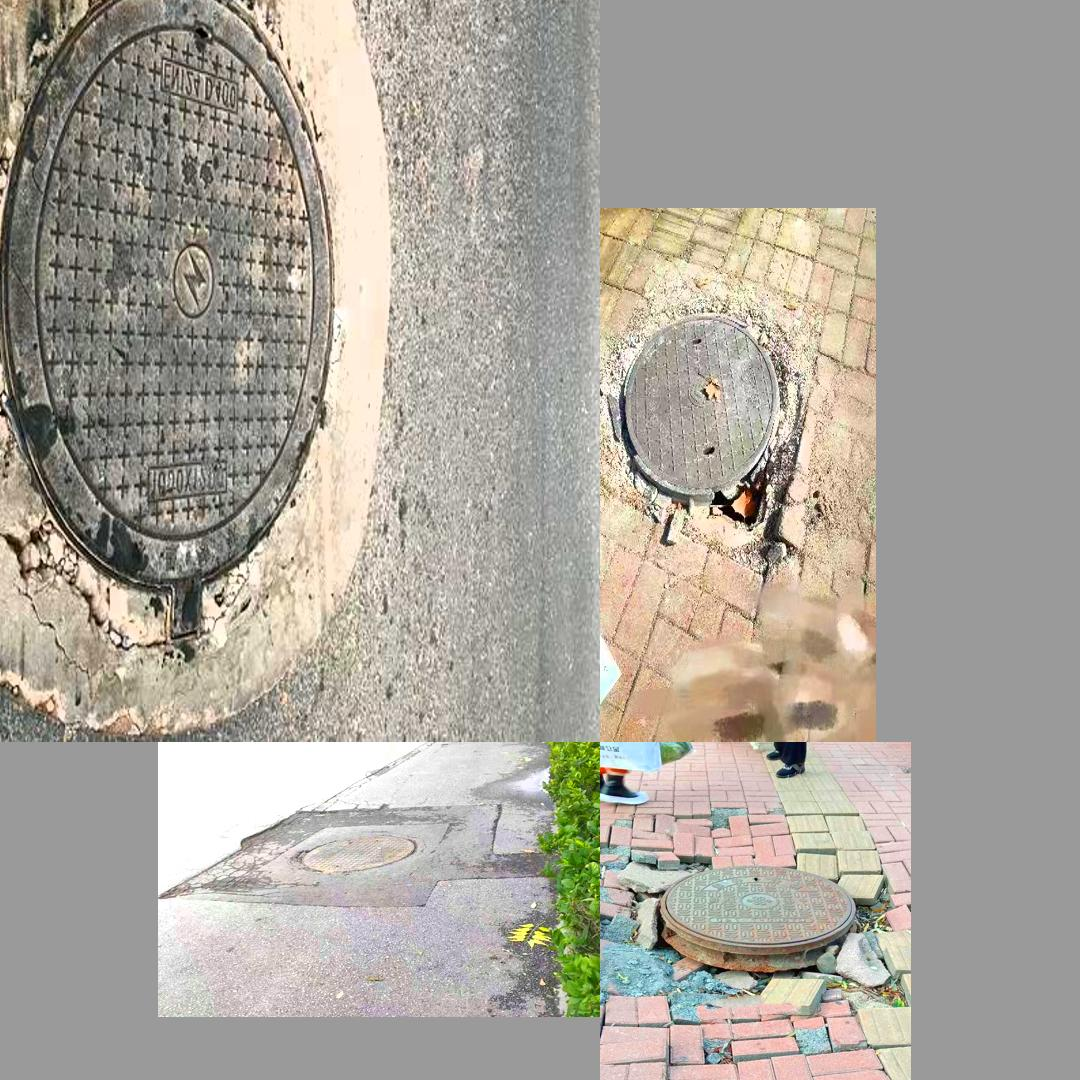circle: (0, 0, 387, 723), (603, 820, 904, 1070), (600, 300, 807, 521), (213, 815, 492, 904)
